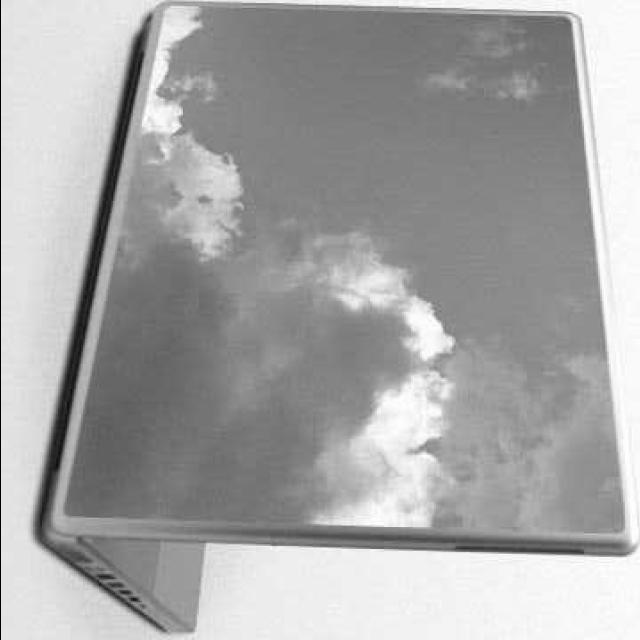laptop: (39, 0, 639, 625)
